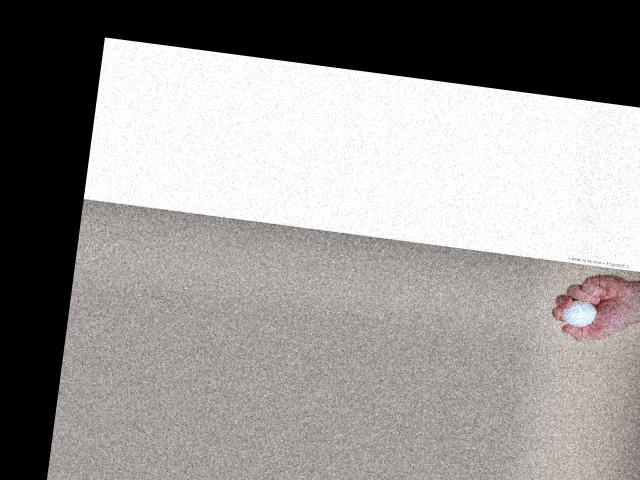egg: (561, 298, 599, 328)
